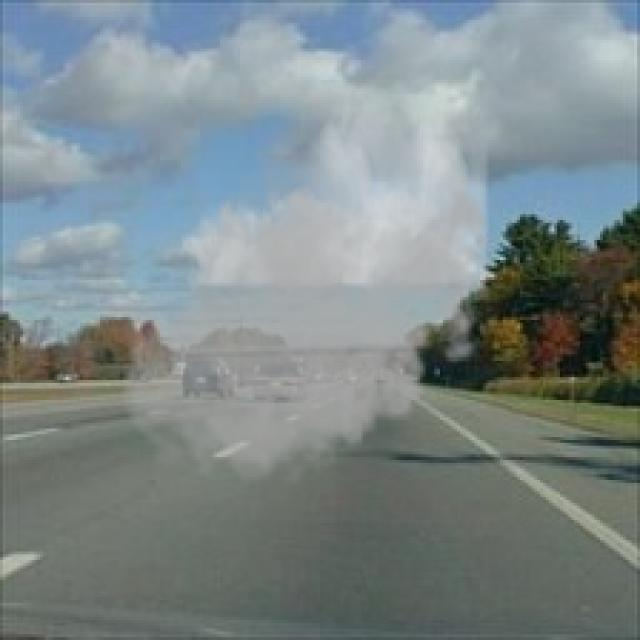smoke: (114, 94, 503, 497)
